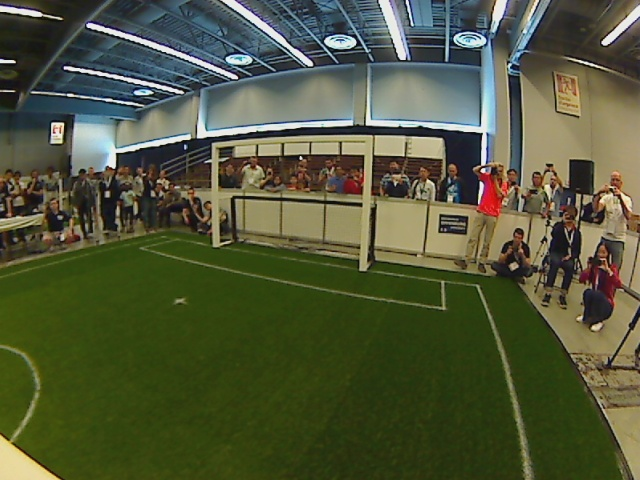goalpost: (349, 254, 376, 286), (204, 232, 224, 258)
